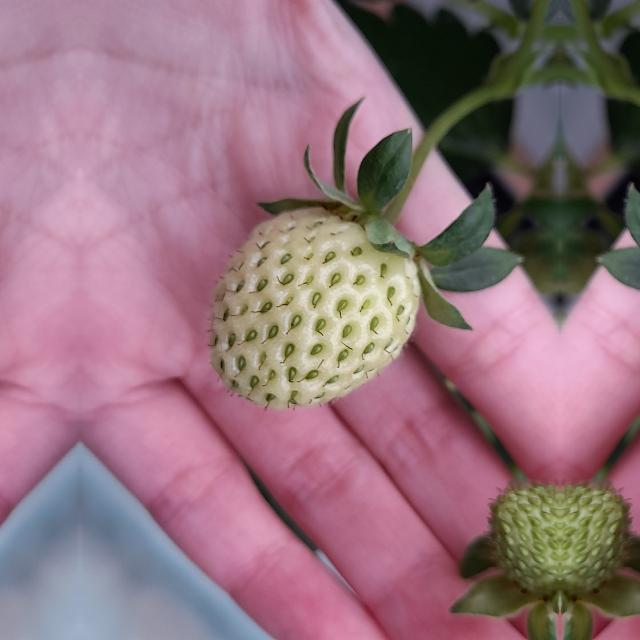Health_25: (208, 206, 420, 410)
